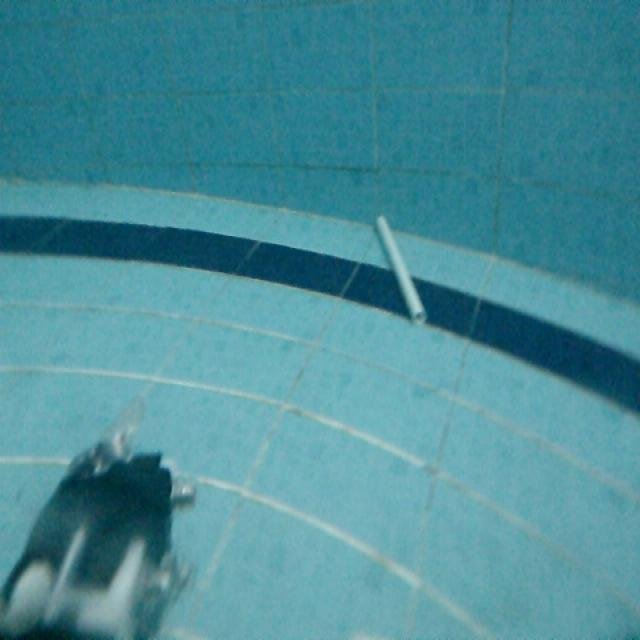Cube: (370, 212, 431, 325)
